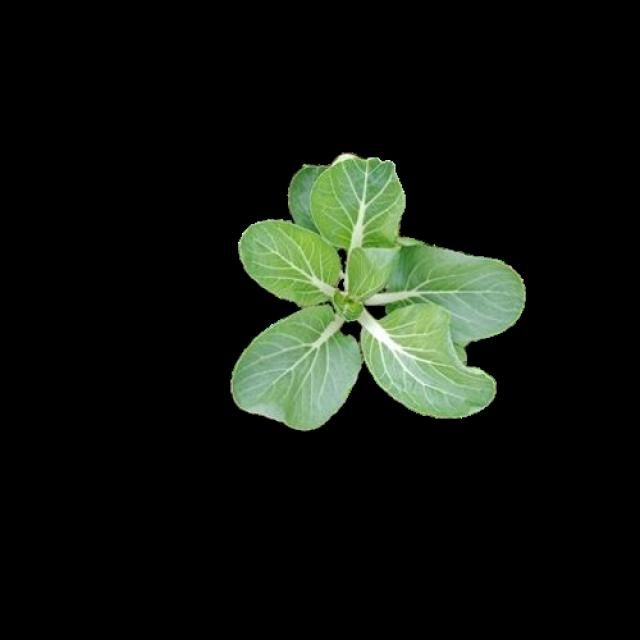not-mature: (230, 154, 525, 428)
unhealthy: (312, 155, 406, 247)
